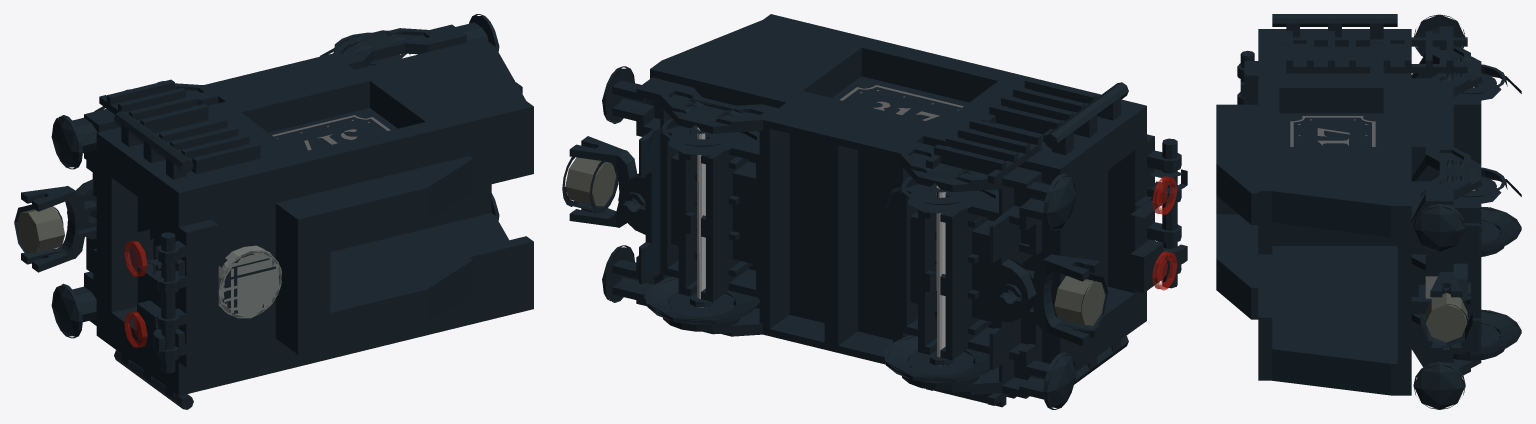
Rendered from tender.glb.
3 renders of one model, left to right at view 1: azimuth 30°, elevation 25°; view 2: azimuth 150°, elevation 25°; view 3: azimuth 270°, elevation 25°, orthographic. The views are drawn at different scales.
Bounding box in the file's own units: 121 × 59.2 × 70.
